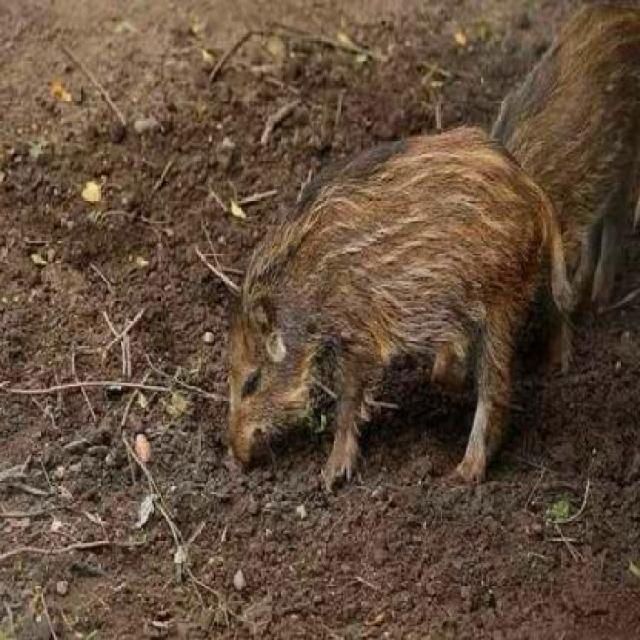Boar: (214, 143, 552, 522)
